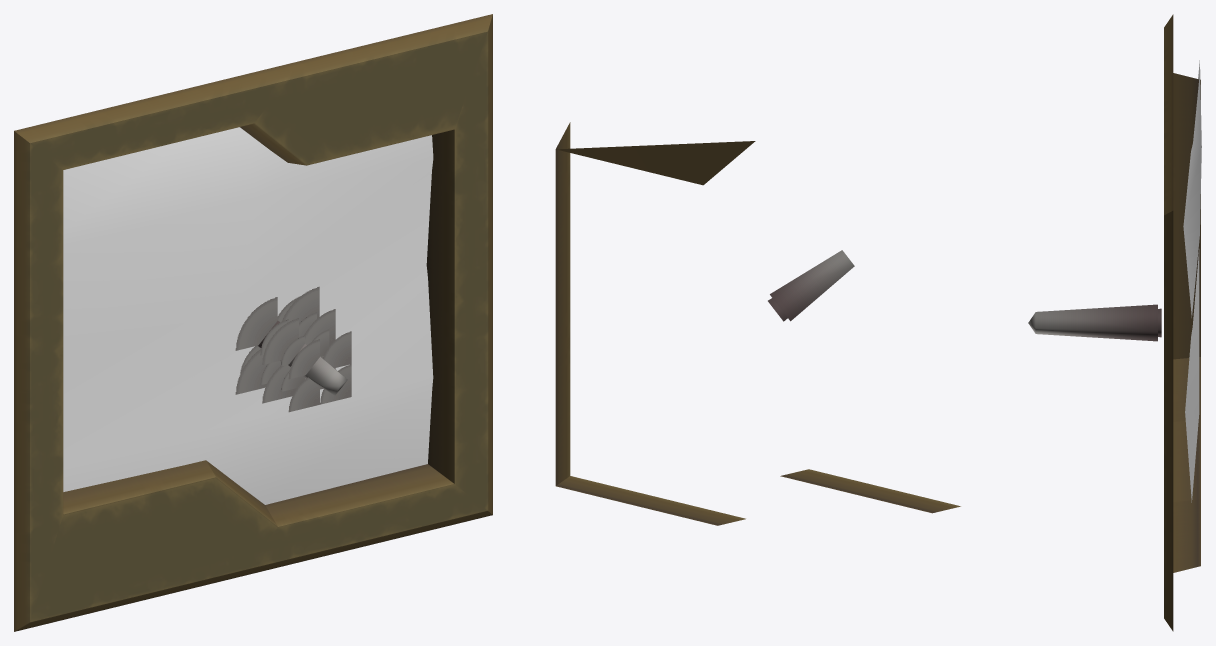
File: shocktrench_2x2.glb
The picture shows the model from 3 angles, left to right: view 1: azimuth 30°, elevation 25°; view 2: azimuth 150°, elevation 25°; view 3: azimuth 270°, elevation 25°; orthographic projection. The views are drawn at different scales.
Parts seen in each view (by area): view 1: shock_trenches.shocktrench_2x2-MeshNodes["shock_trench_2x2"], shock_trenches.shocktrench_2x2-MeshNodes["shock_trench_2x2_w, shock_trenches.transformer-Mesh[0] (×2), shock_trenches.transformer-Mesh[1]; view 2: shock_trenches.shocktrench_2x2-MeshNodes["shock_trench_2x2"], shock_trenches.transformer-Mesh[1]; view 3: shock_trenches.shocktrench_2x2-MeshNodes["shock_trench_2x2"], shock_trenches.shocktrench_2x2-MeshNodes["shock_trench_2x2_w, shock_trenches.transformer-Mesh[1].
Boxes of the visible parts, box(x1,y1,x2,y2) form: shock_trenches.shocktrench_2x2-MeshNodes["shock_trench_2x2"]: box(14, 14, 492, 631); shock_trenches.shocktrench_2x2-MeshNodes["shock_trench_2x2_w: box(63, 127, 433, 504); shock_trenches.transformer-Mesh[0] (×2): box(235, 286, 351, 412); shock_trenches.transformer-Mesh[1]: box(258, 320, 347, 395); shock_trenches.shocktrench_2x2-MeshNodes["shock_trench_2x2"]: box(555, 122, 960, 525); shock_trenches.transformer-Mesh[1]: box(770, 250, 854, 321); shock_trenches.shocktrench_2x2-MeshNodes["shock_trench_2x2"]: box(1164, 14, 1200, 631); shock_trenches.shocktrench_2x2-MeshNodes["shock_trench_2x2_w: box(1183, 60, 1201, 502); shock_trenches.transformer-Mesh[1]: box(1028, 304, 1157, 341).
Size of the model in its own units: 2.01 by 2.01 by 0.7501.
4 materials, 3 textured.
